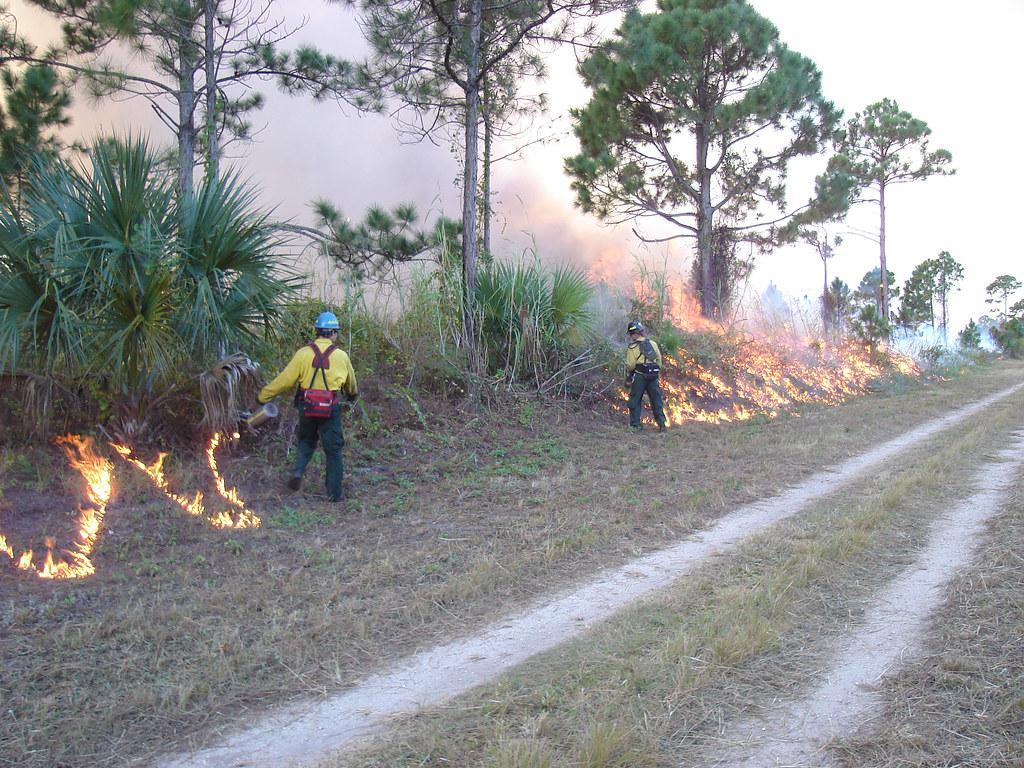Fire: (610, 238, 918, 429), (4, 437, 113, 579), (129, 422, 256, 538)
